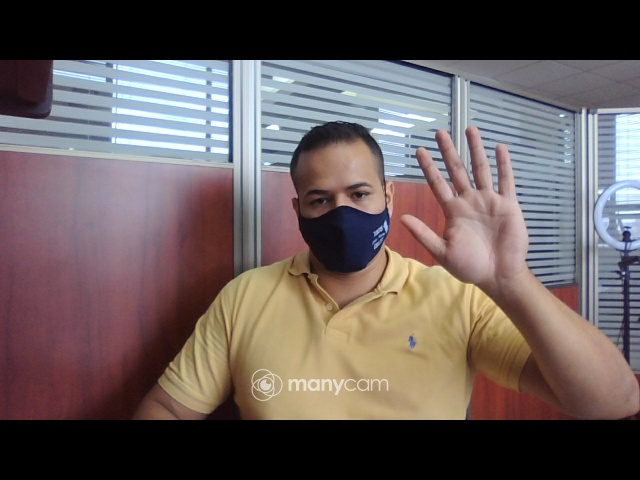Hello: (397, 124, 540, 293)
